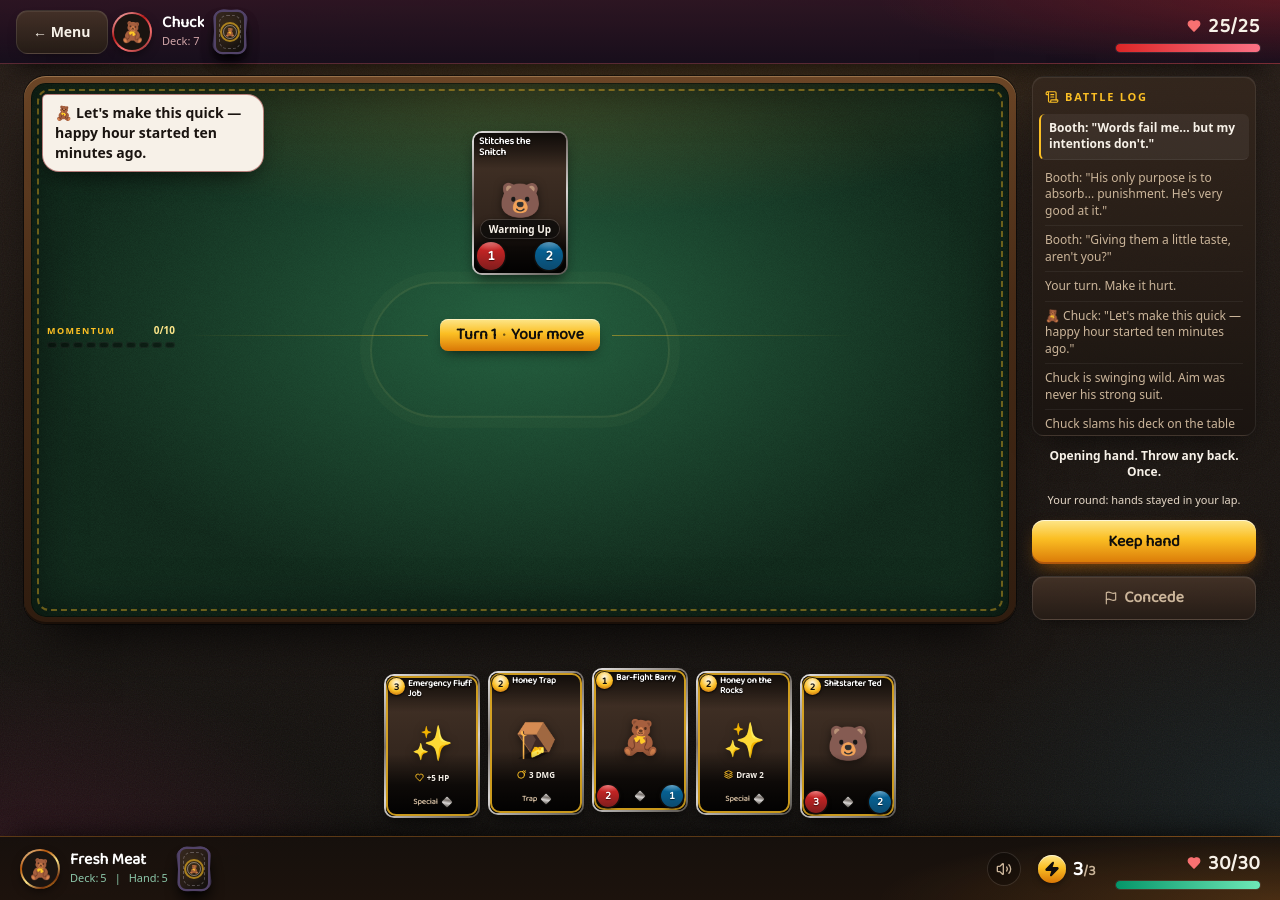
Test case: GameBoard result panel › names a Battle Pass tier the battle opened
The width and height of the screenshot is (1280, 900).
Click the button "Keep hand" at x=1144, y=542, box [1032, 520, 1256, 564]
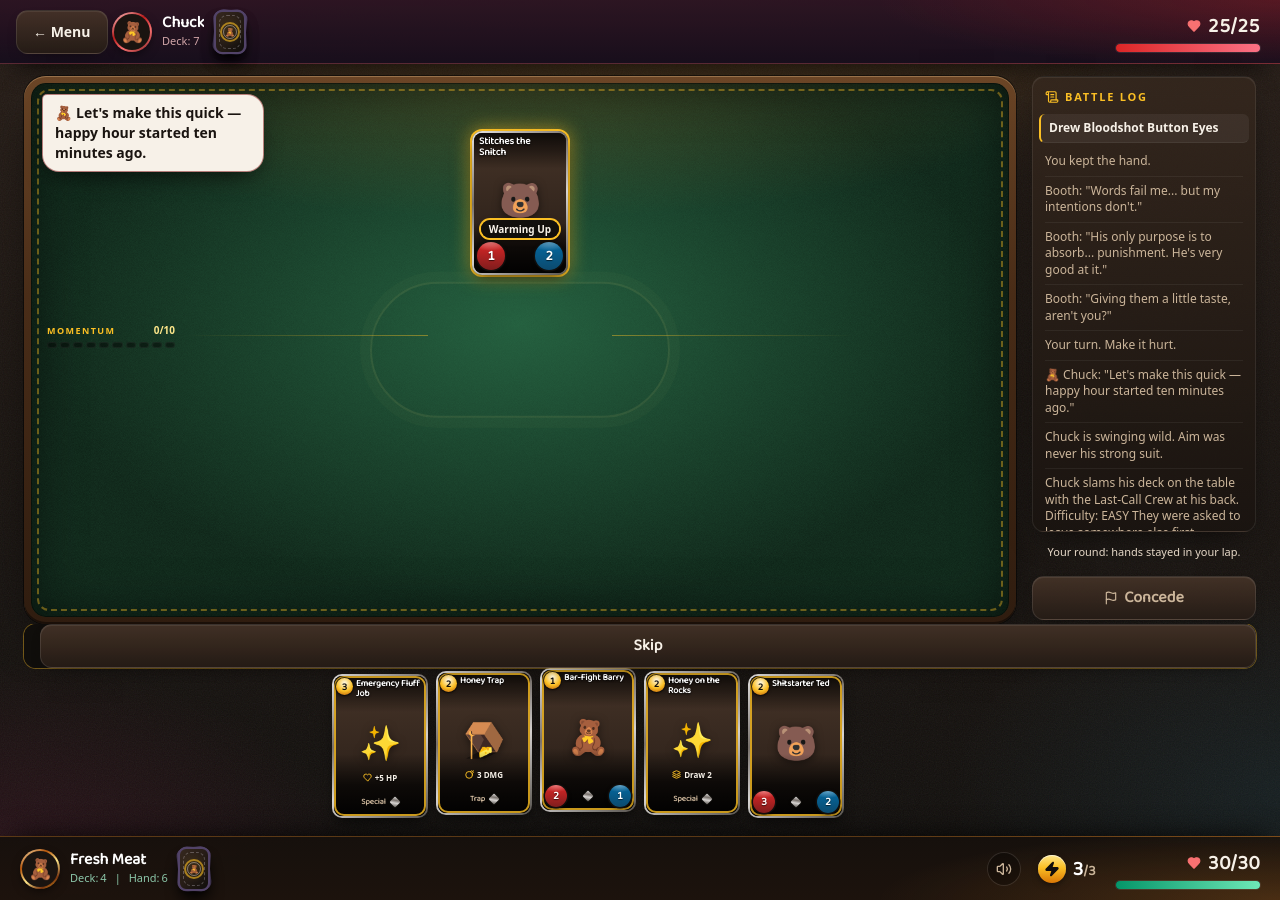
Click the button "Concede" at x=1144, y=598, box [1032, 576, 1256, 620]
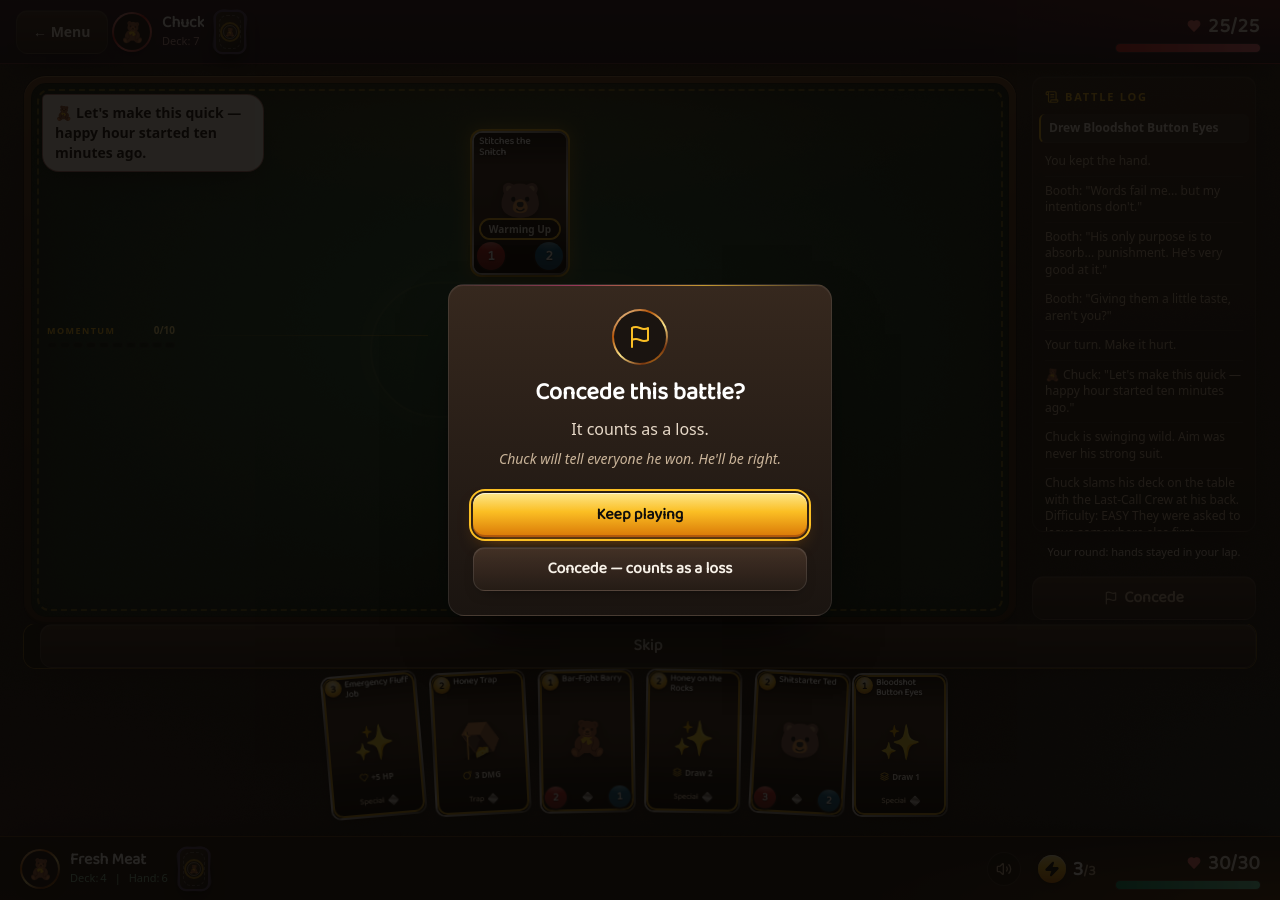
Click the button "Concede — counts as a loss" at x=640, y=569, box [473, 547, 807, 591]
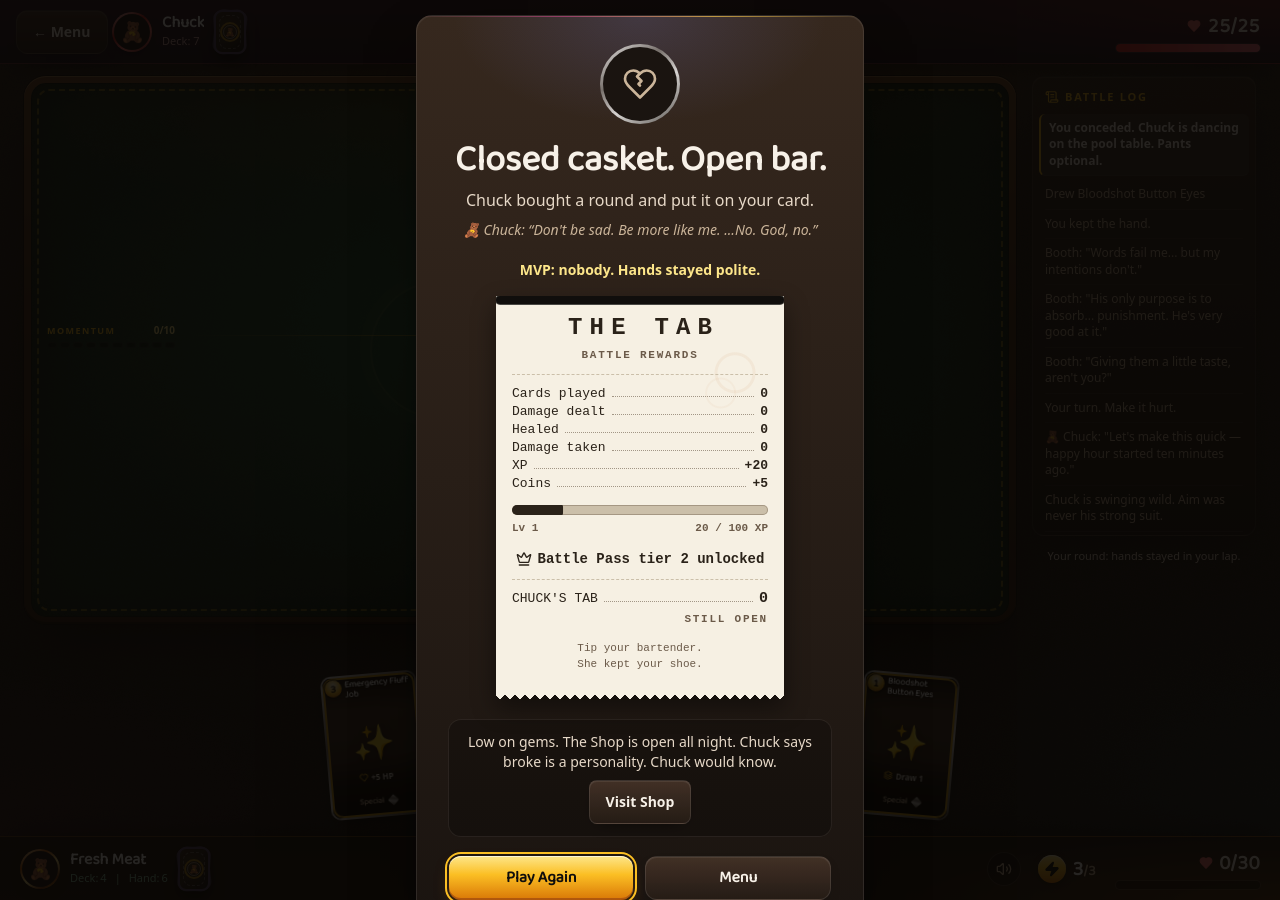
Expected: the element showing "Battle Pass tier 2 unlocked" is shown, [512, 549, 768, 569]
